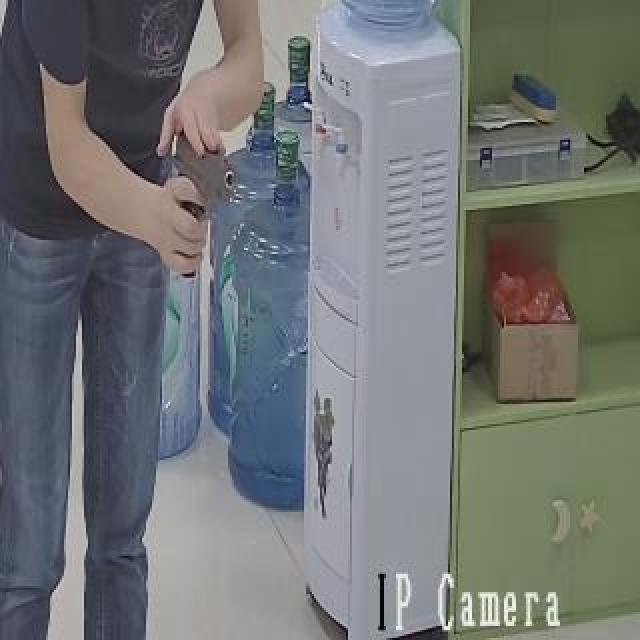Guns: (164, 117, 245, 278)
